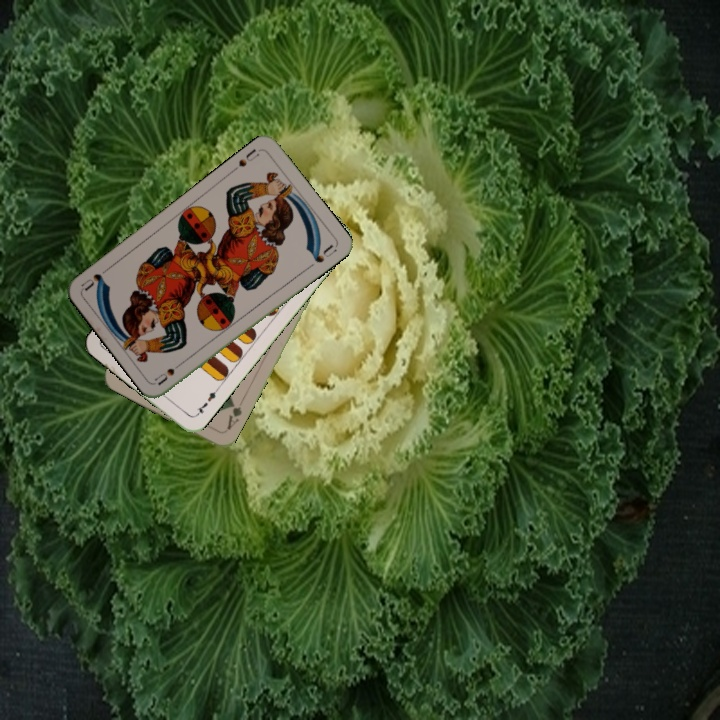E7: (191, 385, 221, 419)
GA: (223, 398, 245, 432)
SU: (151, 356, 188, 388), (234, 144, 262, 170)
